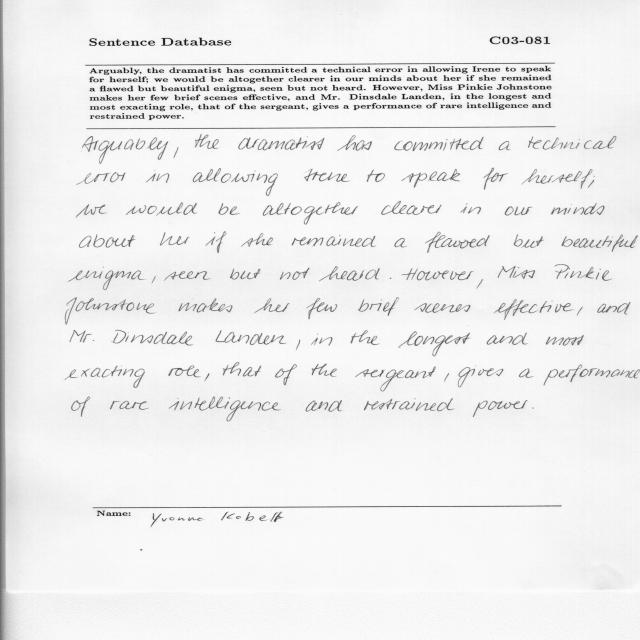word: (169, 397, 281, 422), (65, 297, 156, 325), (193, 168, 278, 196), (83, 136, 168, 163), (263, 202, 358, 225), (355, 366, 436, 392), (543, 365, 640, 386), (399, 332, 471, 357), (68, 267, 145, 290), (65, 366, 145, 388), (494, 299, 574, 320), (522, 169, 593, 189), (561, 234, 638, 252), (425, 232, 489, 253), (112, 330, 193, 346), (394, 137, 484, 151), (239, 137, 325, 151), (364, 398, 454, 411), (528, 136, 616, 149), (216, 330, 287, 345), (402, 169, 460, 187), (292, 235, 376, 247), (126, 202, 197, 216), (401, 268, 474, 281), (473, 400, 528, 417), (319, 266, 380, 281), (555, 265, 612, 281), (458, 367, 503, 387), (381, 201, 442, 215), (179, 298, 233, 313), (80, 234, 136, 248), (358, 297, 399, 316), (306, 298, 337, 319), (551, 203, 605, 215), (304, 169, 350, 182), (77, 173, 126, 185), (337, 135, 372, 151), (415, 303, 471, 313), (483, 168, 508, 190), (254, 298, 290, 313), (223, 363, 261, 377), (486, 333, 528, 345), (498, 266, 535, 279), (275, 364, 297, 385), (241, 233, 273, 247), (305, 400, 342, 412), (597, 302, 631, 315), (160, 232, 190, 246), (206, 232, 226, 253), (514, 234, 544, 248), (351, 330, 379, 345), (546, 335, 584, 346), (165, 271, 211, 280), (76, 205, 107, 218), (168, 366, 201, 378), (280, 267, 309, 280), (195, 134, 219, 149), (72, 397, 90, 417), (110, 401, 149, 410), (312, 363, 337, 377), (230, 269, 260, 280), (70, 330, 94, 343), (146, 170, 169, 183), (218, 203, 240, 215), (311, 334, 333, 346), (505, 207, 532, 216), (367, 169, 385, 182), (460, 203, 481, 214), (519, 368, 533, 378), (499, 141, 511, 150), (395, 238, 407, 247), (588, 176, 595, 188), (477, 279, 483, 289), (174, 147, 179, 158), (577, 307, 583, 316), (205, 373, 210, 382), (444, 373, 449, 382), (296, 340, 300, 350), (151, 276, 156, 283), (390, 278, 392, 279), (532, 408, 534, 409)
